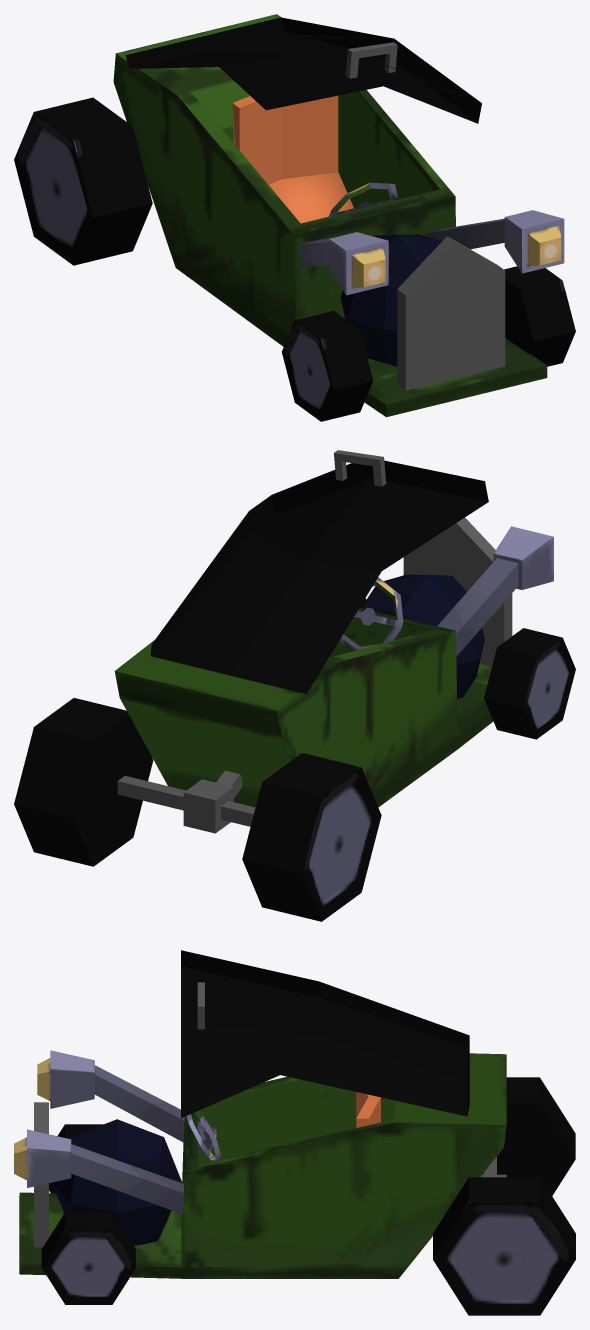
The model's file is Randy_car_0.glb.
3 renders of one model, top to bottom at view 1: azimuth 30°, elevation 25°; view 2: azimuth 150°, elevation 25°; view 3: azimuth 270°, elevation 25°, orthographic. The views are drawn at different scales.
Parts seen in each view (by area): view 1: Cube.002, Cube.016, Cube.010, Cube.009, Cube.013, Cube.006, Cube.012, Cube.001, Cube.004, Cube.007, Cube.005, Cube.011 (+1 smaller); view 2: Cube.002, Cube.010, Cube.016, Cube.008, Cube.006, Cube.004, Cube.009, Cube.012, Cube.003, Cube.014, Cube.011; view 3: Cube.002, Cube.010, Cube.008, Cube.012, Cube.007, Cube.016, Cube.001, Cube.004, Cube.009, Cube.013, Cube.014.
Boxes of the visible parts, left/top/right/bottom form: Cube.002: left=113, top=14, right=547, bottom=417; Cube.016: left=14, top=97, right=152, bottom=265; Cube.010: left=125, top=17, right=481, bottom=123; Cube.009: left=397, top=236, right=505, bottom=390; Cube.013: left=232, top=95, right=353, bottom=223; Cube.006: left=282, top=311, right=373, bottom=421; Cube.012: left=340, top=234, right=441, bottom=366; Cube.001: left=424, top=210, right=564, bottom=273; Cube.004: left=299, top=232, right=388, bottom=295; Cube.007: left=504, top=266, right=575, bottom=366; Cube.005: left=505, top=269, right=570, bottom=362; Cube.011: left=345, top=42, right=397, bottom=78; Cube.002: left=114, top=607, right=493, bottom=807; Cube.010: left=150, top=460, right=488, bottom=694; Cube.016: left=242, top=753, right=381, bottom=921; Cube.008: left=14, top=698, right=153, bottom=866; Cube.006: left=484, top=628, right=575, bottom=739; Cube.004: left=437, top=526, right=553, bottom=656; Cube.009: left=403, top=517, right=512, bottom=666; Cube.012: left=361, top=574, right=484, bottom=699; Cube.003: left=117, top=770, right=255, bottom=833; Cube.014: left=339, top=577, right=403, bottom=651; Cube.011: left=334, top=450, right=386, bottom=486; Cube.002: left=19, top=1053, right=506, bottom=1278; Cube.010: left=181, top=950, right=469, bottom=1118; Cube.008: left=433, top=1177, right=575, bottom=1315; Cube.012: left=52, top=1119, right=182, bottom=1245; Cube.007: left=41, top=1213, right=135, bottom=1304; Cube.016: left=482, top=1077, right=575, bottom=1195; Cube.001: left=14, top=1129, right=183, bottom=1214; Cube.004: left=37, top=1050, right=216, bottom=1154; Cube.009: left=34, top=1102, right=48, bottom=1247; Cube.013: left=356, top=1092, right=380, bottom=1127; Cube.014: left=186, top=1114, right=220, bottom=1161.
Size of the model in its own units: 2.74 by 2.68 by 5.17.
Materials: 6 (3 with a texture image).
